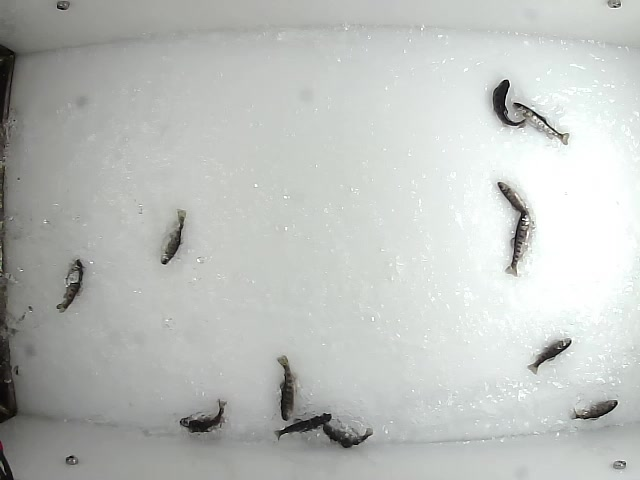fish: (510, 100, 572, 146), (502, 206, 533, 278), (490, 76, 528, 128), (177, 397, 226, 435), (273, 412, 333, 442), (526, 336, 572, 374), (158, 207, 186, 268), (273, 353, 297, 423), (498, 182, 535, 226), (55, 257, 84, 313), (320, 421, 374, 449), (569, 399, 620, 421)
